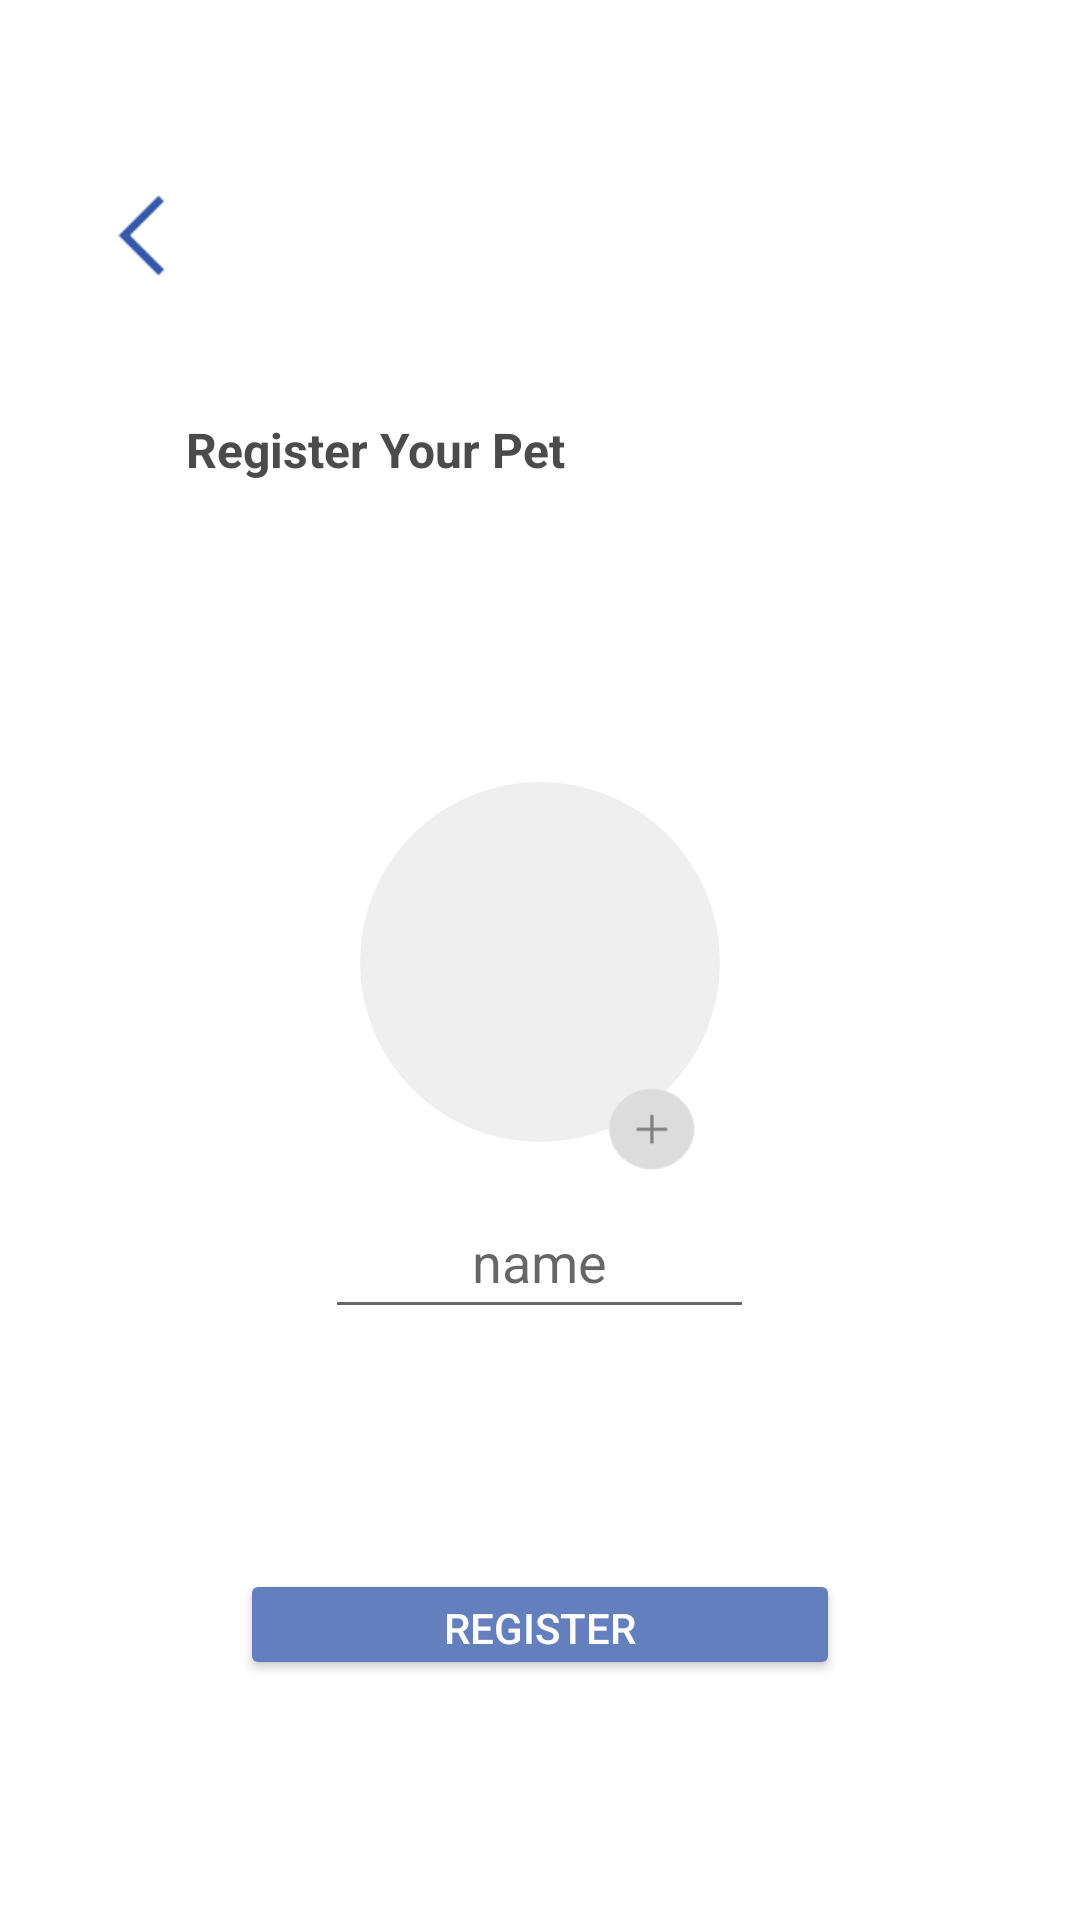

Locate icon controls on the screen. Image size 1080px x 1920px, boxes as (x1, y1, x2, y2).
back: (118, 195, 165, 276)
